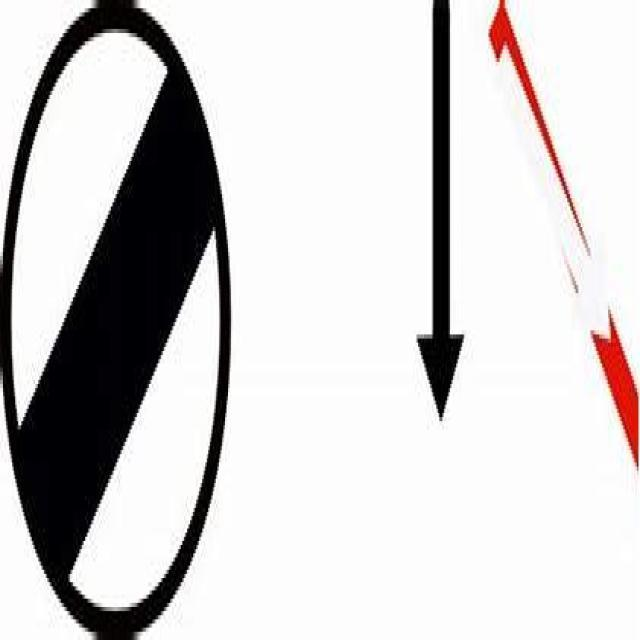restriction ends: (5, 12, 231, 628)
